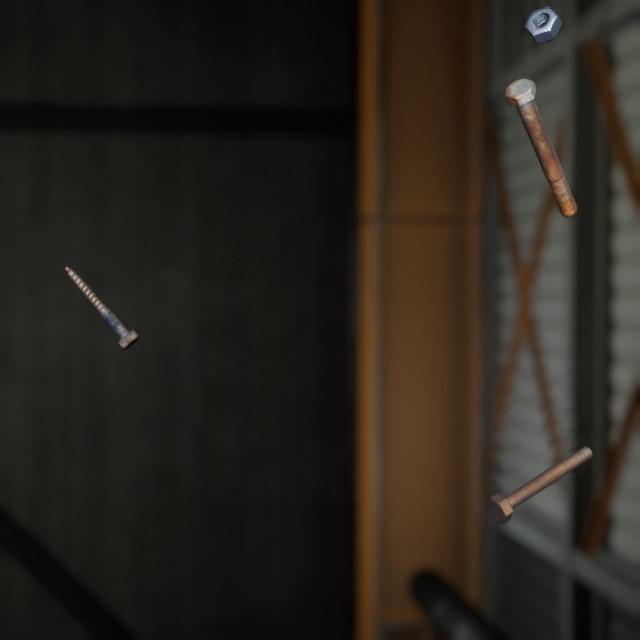bolt: (500, 60, 581, 209), (482, 421, 597, 506), (60, 245, 143, 337)
nut: (520, 0, 567, 39)
